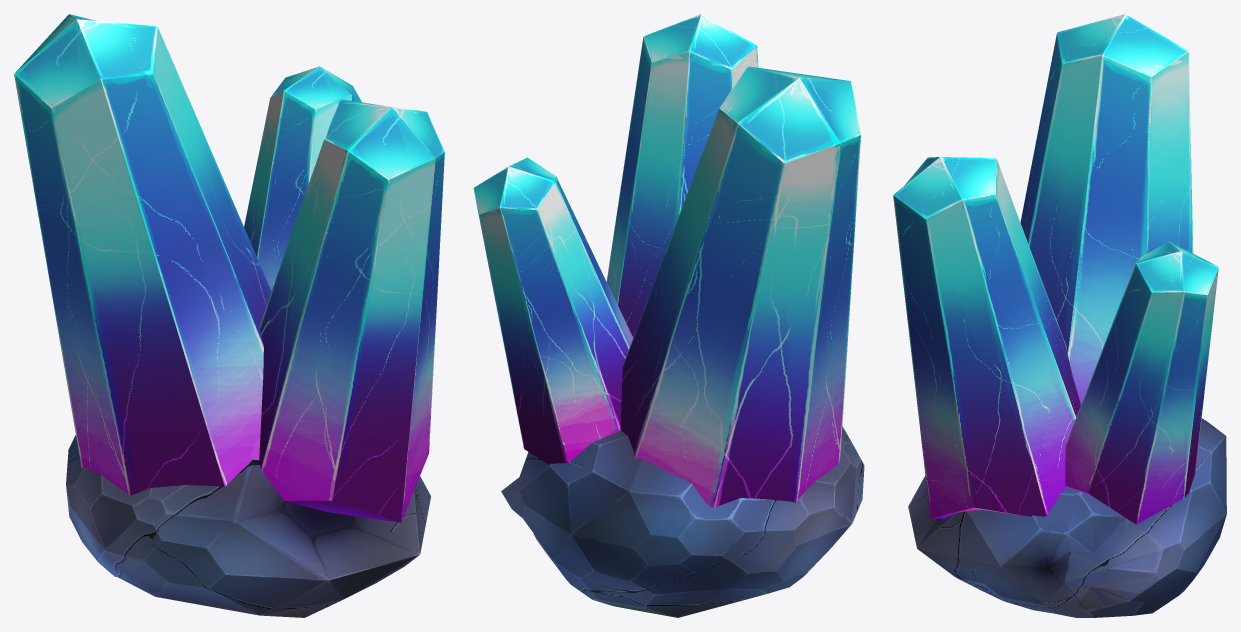
Rendered from cooper_chunk.fbx.
The picture shows the model from 3 angles, left to right: view 1: azimuth 30°, elevation 25°; view 2: azimuth 150°, elevation 25°; view 3: azimuth 270°, elevation 25°; orthographic projection. The views are drawn at different scales.
Visible parts, largest first — view 1: Icosphere; view 2: Icosphere; view 3: Icosphere.
Boxes of the visible parts, left/top/right/bottom form: Icosphere: left=14, top=14, right=444, bottom=617; Icosphere: left=473, top=14, right=864, bottom=617; Icosphere: left=893, top=14, right=1226, bottom=617.
Size of the model in its own units: 456 by 714 by 416.
